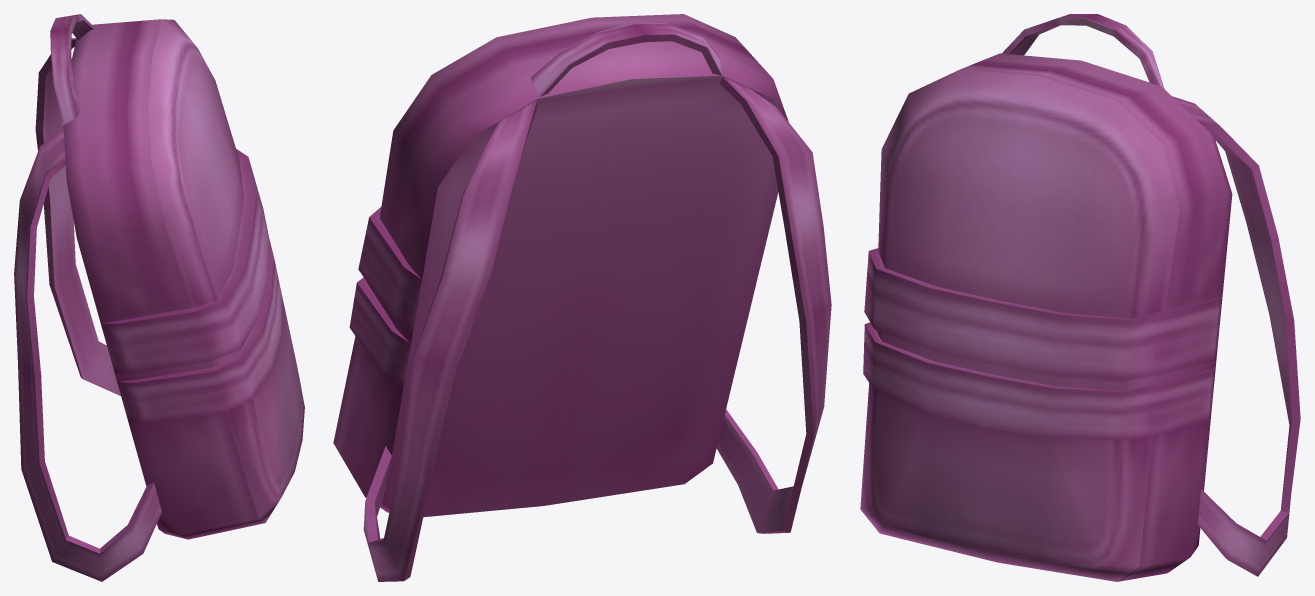
File: HuBian_01_shubao_01.FBX
3 views of the same model, side by side, from view 1: azimuth 30°, elevation 25°; view 2: azimuth 150°, elevation 25°; view 3: azimuth 270°, elevation 25° (orthographic). The views are drawn at different scales.
Visible parts, largest first — view 1: Object045; view 2: Object045; view 3: Object045.
Part boxes in pixels (x1,y1,x2,y2): Object045: (14, 14, 304, 581); Object045: (333, 14, 831, 581); Object045: (860, 14, 1300, 581).
Size of the model in its own units: 148 by 203 by 158.
